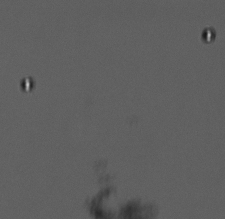Living Cell: (18, 76, 35, 93), (200, 26, 216, 44)
